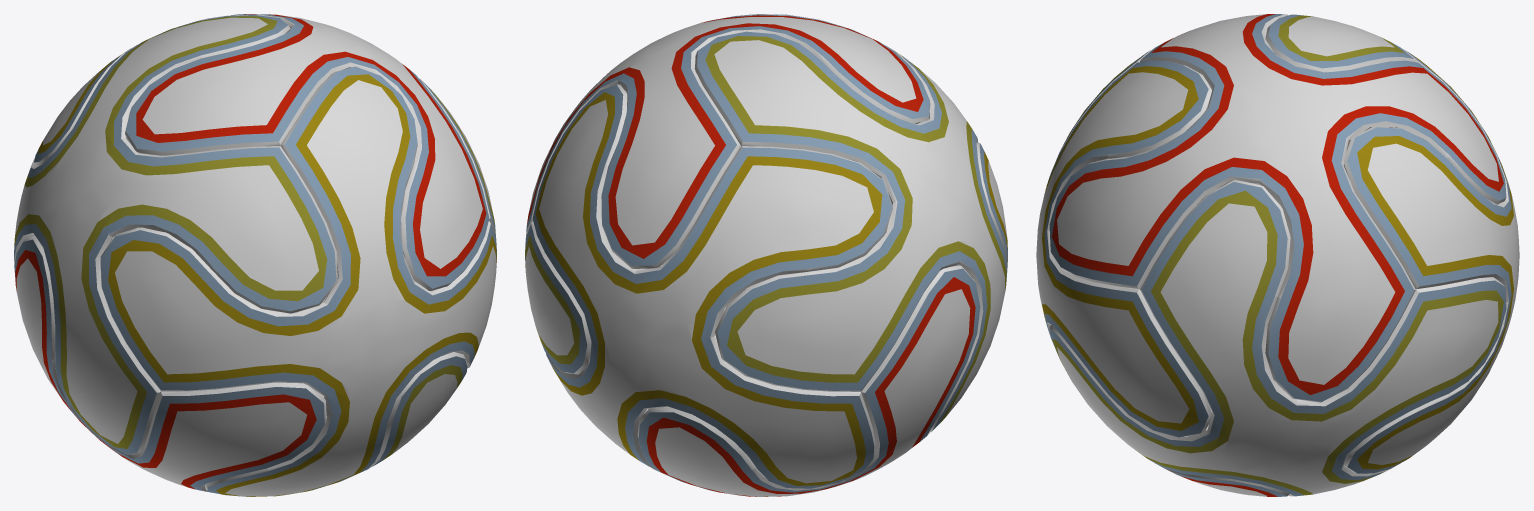
File: ball.obj
3 renders of one model, left to right at view 1: azimuth 30°, elevation 25°; view 2: azimuth 150°, elevation 25°; view 3: azimuth 270°, elevation 25°, orthographic.
Size of the model in its own units: 0.1464 by 0.1464 by 0.1464.
